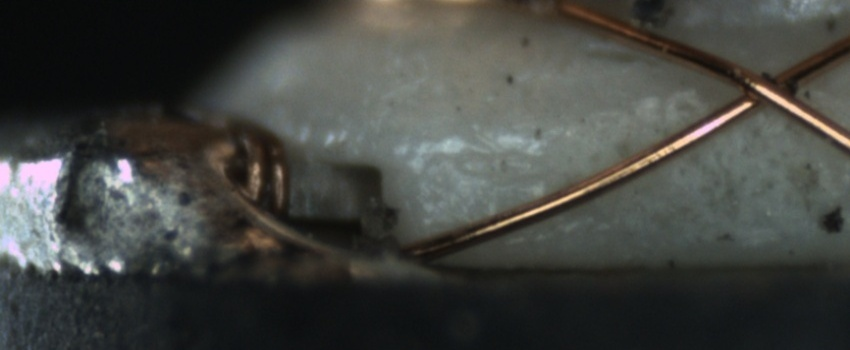CL: (716, 54, 821, 122)
DL: (399, 122, 553, 186)
TE: (214, 111, 296, 213)
